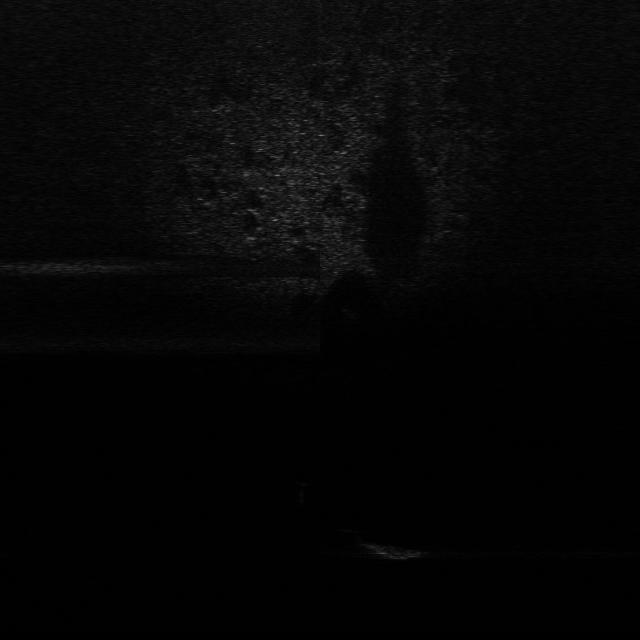metal bucket: (373, 533, 426, 566)
tyre: (320, 526, 366, 565)
